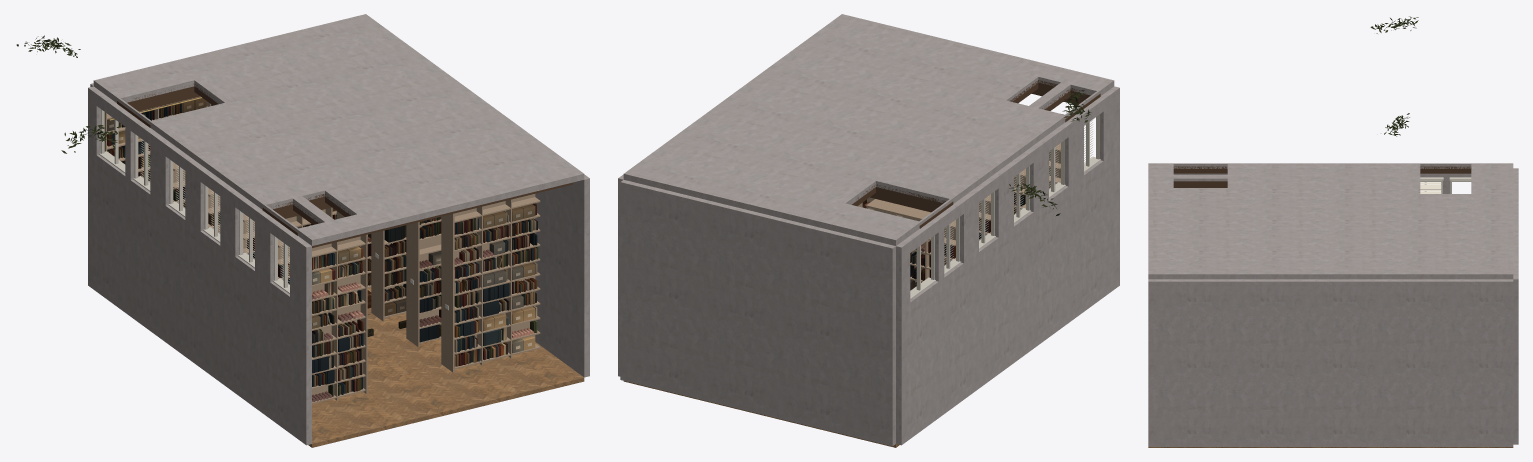
Rendered from archive.glb.
The picture shows the model from 3 angles, left to right: view 1: azimuth 30°, elevation 25°; view 2: azimuth 150°, elevation 25°; view 3: azimuth 270°, elevation 25°; orthographic projection. The views are drawn at different scales.
Parts seen in each view (by area): view 1: Archive_shell, Archive_books, Archive_decor; view 2: Archive_shell, Archive_books, Archive_decor; view 3: Archive_shell, Archive_decor.
Boxes of the visible parts, box(x1,y1,x2,y2) form: Archive_shell: box(88, 14, 589, 447); Archive_books: box(107, 97, 538, 401); Archive_decor: box(16, 35, 406, 336); Archive_shell: box(618, 14, 1119, 447); Archive_books: box(862, 187, 1050, 290); Archive_decor: box(1009, 90, 1091, 215); Archive_shell: box(1148, 163, 1518, 447); Archive_decor: box(1370, 16, 1418, 136).
Size of the model in its own units: 10.99 by 8.31 by 10.15.
Materials: 46 (17 with a texture image).
